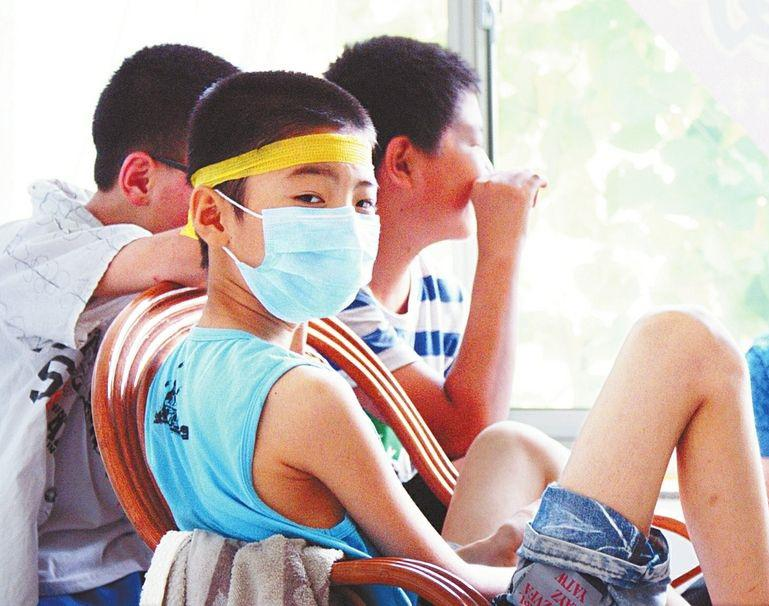NONE: (413, 120, 497, 244)
OK: (233, 167, 382, 316)
